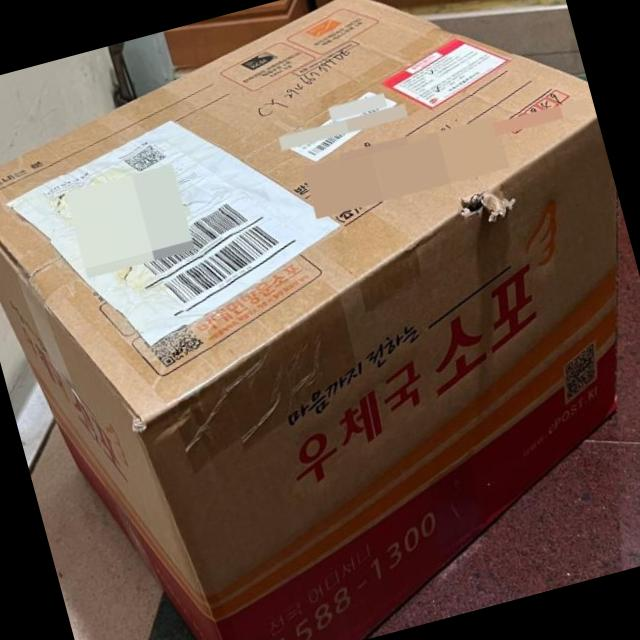box: (1, 2, 616, 639)
